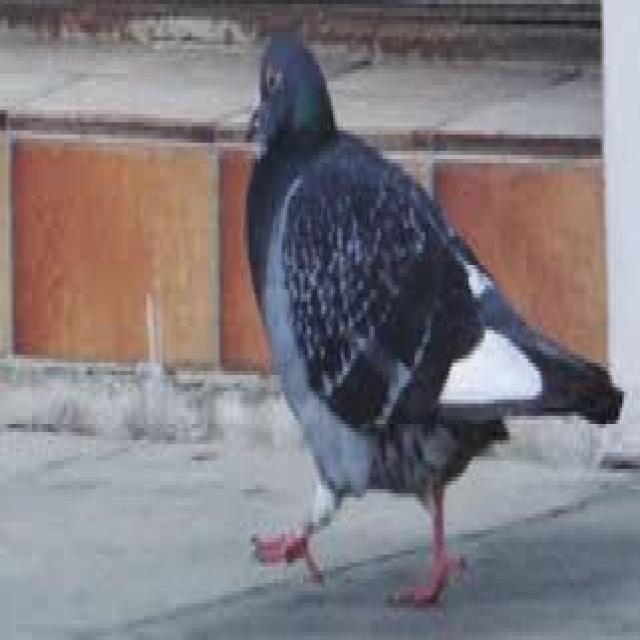pigeon: (224, 23, 629, 640)
